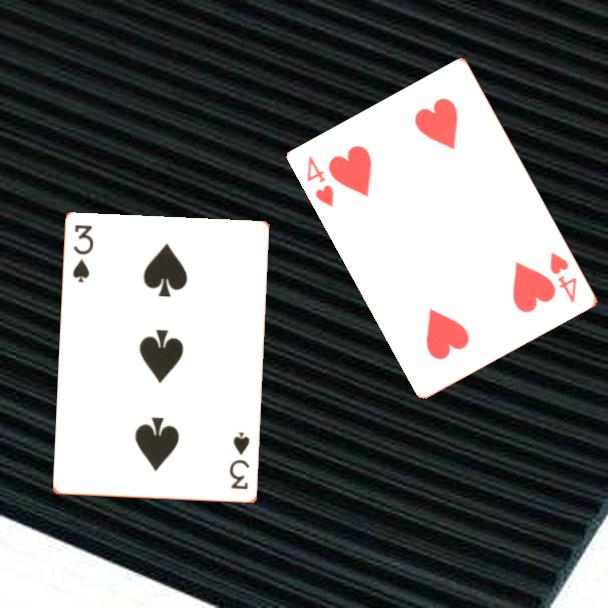h04: (303, 152, 337, 210), (547, 248, 580, 306)
s03: (69, 222, 96, 286), (226, 429, 253, 492)
